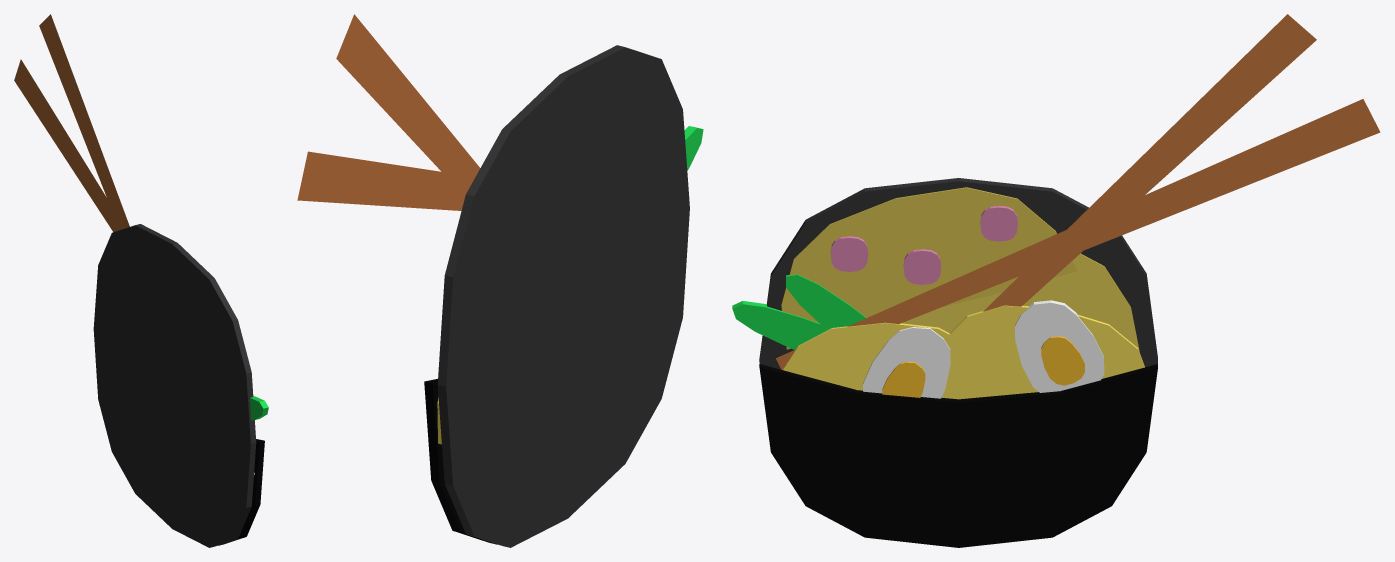
The model's file is RamenSign.fbx.
The picture shows the model from 3 angles, left to right: view 1: azimuth 30°, elevation 25°; view 2: azimuth 150°, elevation 25°; view 3: azimuth 270°, elevation 25°; orthographic projection. The views are drawn at different scales.
Visible parts, largest first — view 1: Plane, Plane.004, Plane.005, Plane.001, Plane.016; view 2: Plane, Plane.004, Plane.005, Plane.001, Plane.016; view 3: Plane.001, Plane.010, Plane.005, Plane.004, Plane, Plane.009, Plane.008, Plane.011, Plane.007, Plane.002, Plane.016, Plane.017 (+5 smaller).
Boxes of the visible parts, x1=… form: Plane: x1=93, y1=224, x2=256, y2=547; Plane.004: x1=39, y1=14, x2=129, y2=229; Plane.005: x1=14, y1=59, x2=125, y2=232; Plane.001: x1=218, y1=439, x2=264, y2=545; Plane.016: x1=250, y1=396, x2=268, y2=420; Plane: x1=437, y1=45, x2=689, y2=547; Plane.004: x1=336, y1=14, x2=480, y2=196; Plane.005: x1=297, y1=151, x2=474, y2=210; Plane.001: x1=424, y1=379, x2=497, y2=544; Plane.016: x1=684, y1=126, x2=703, y2=170; Plane.001: x1=759, y1=364, x2=1157, y2=547; Plane.010: x1=781, y1=187, x2=1077, y2=349; Plane.005: x1=776, y1=99, x2=1380, y2=369; Plane.004: x1=983, y1=14, x2=1316, y2=311; Plane: x1=759, y1=178, x2=1157, y2=369; Plane.009: x1=945, y1=305, x2=1144, y2=392; Plane.008: x1=783, y1=322, x2=995, y2=399; Plane.011: x1=902, y1=253, x2=1139, y2=351; Plane.007: x1=1015, y1=300, x2=1104, y2=392; Plane.002: x1=863, y1=327, x2=950, y2=398; Plane.016: x1=732, y1=301, x2=830, y2=349; Plane.017: x1=786, y1=274, x2=866, y2=329.
Size of the model in its own units: 12.98 by 367 by 406.
